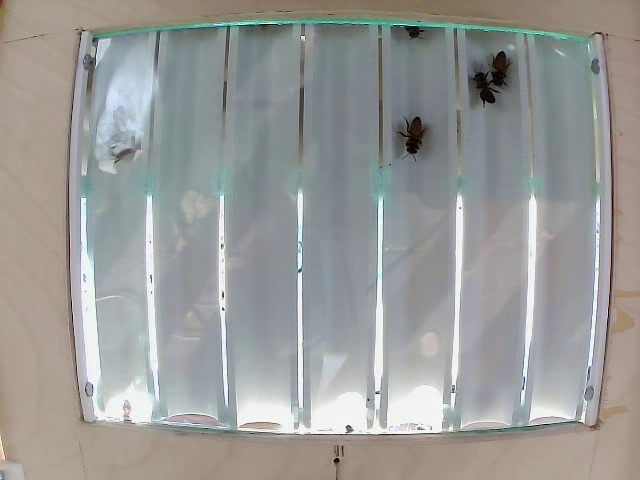bee: (396, 108, 429, 155), (465, 64, 490, 112), (400, 19, 427, 52), (491, 48, 514, 85)
